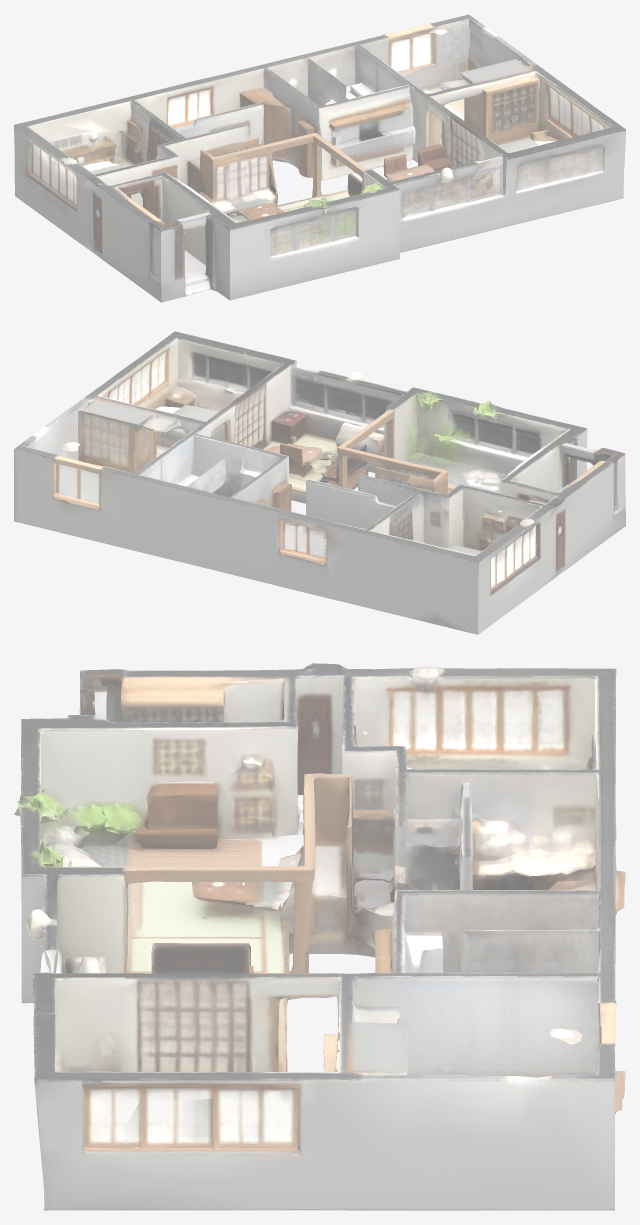
The picture shows the model from 3 angles, top to bottom: view 1: azimuth 30°, elevation 25°; view 2: azimuth 150°, elevation 25°; view 3: azimuth 270°, elevation 25°; orthographic projection. The views are drawn at different scales.
Parts seen in each view (by area): view 1: world; view 2: world; view 3: world.
Boxes of the visible parts, box(x1,y1,x2,y2) form: world: box(14, 14, 625, 302); world: box(14, 331, 625, 634); world: box(14, 663, 625, 1210).
Size of the model in its own units: 0.9984 by 0.1627 by 0.6257.
1 material, 1 textured.
